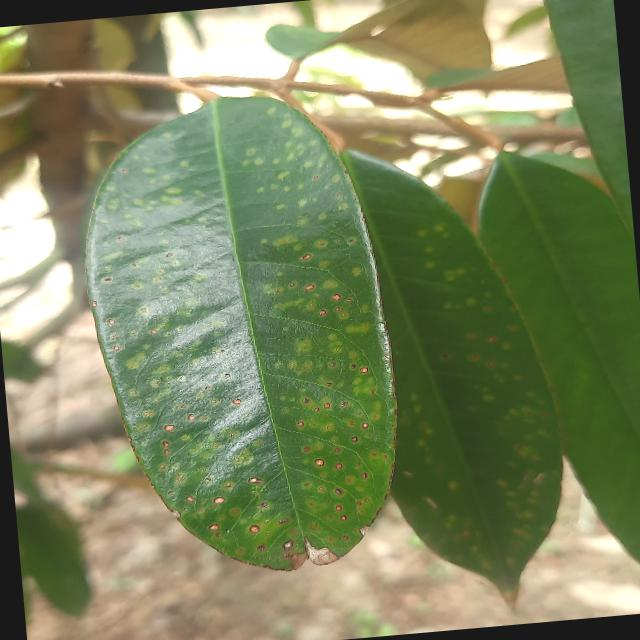Leaf Spot: (65, 78, 413, 592), (338, 138, 576, 635)
